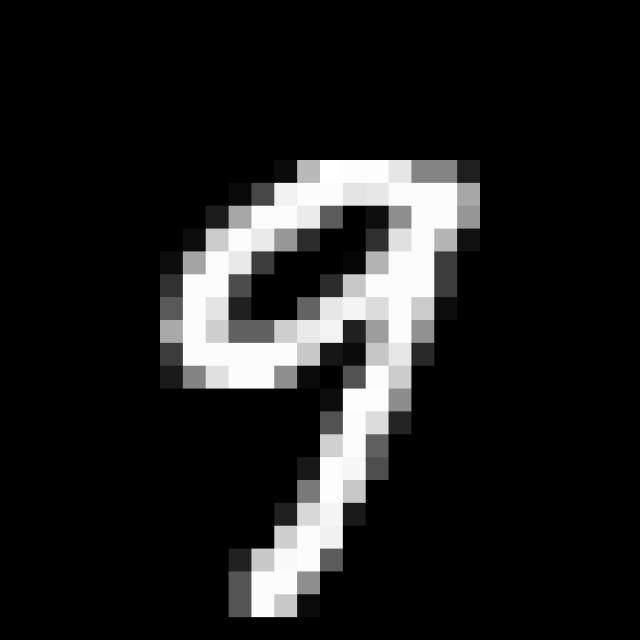nine -9-: (148, 137, 482, 634)
